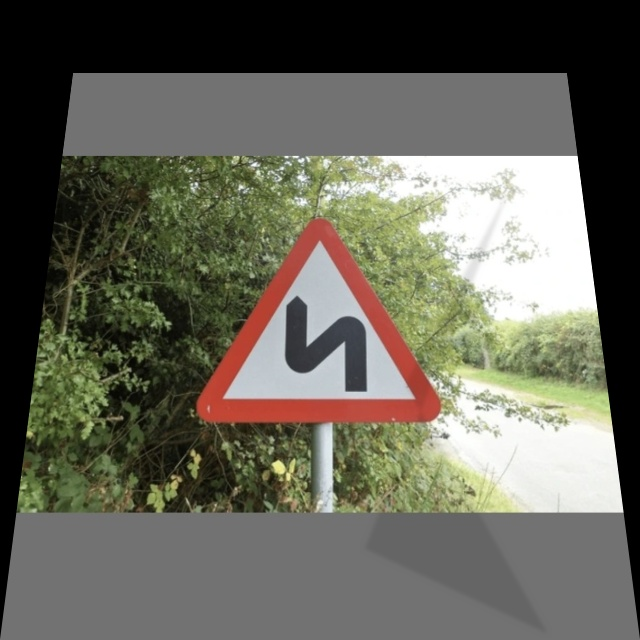Left_Reverse_Bend: (199, 217, 445, 427)
